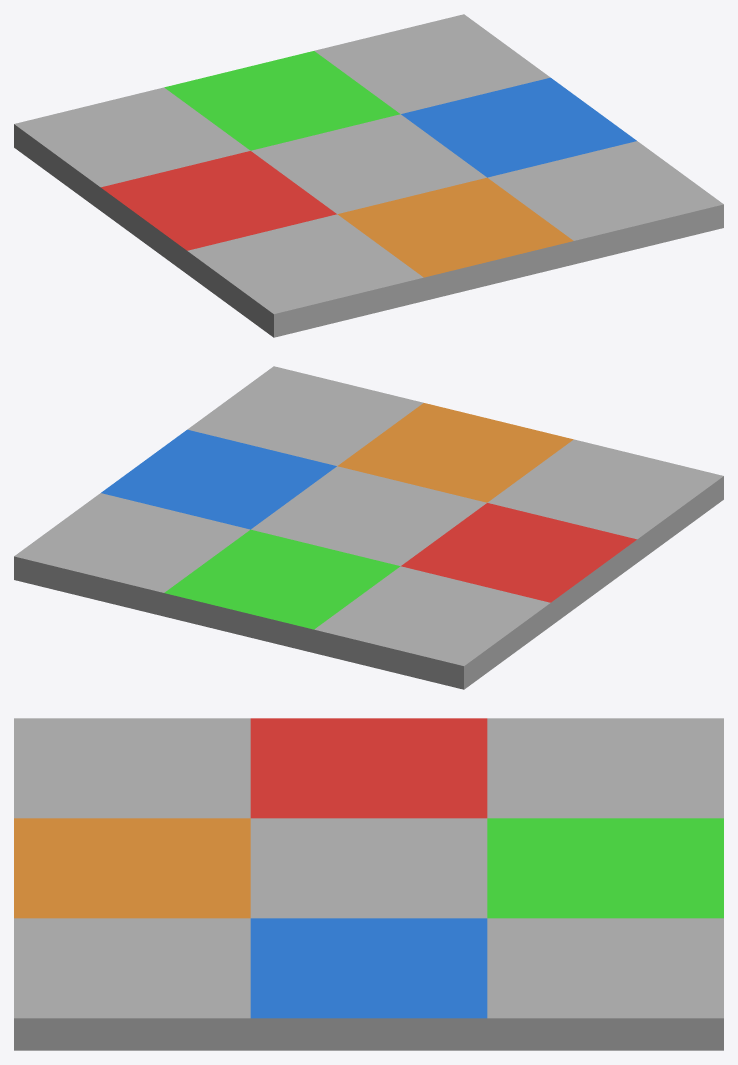
Rendered from platform.fbx.
3 renders of one model, top to bottom at view 1: azimuth 30°, elevation 25°; view 2: azimuth 150°, elevation 25°; view 3: azimuth 270°, elevation 25°, orthographic. The views are drawn at different scales.
Parts seen in each view (by area): view 1: Cube; view 2: Cube; view 3: Cube.
Part boxes in pixels (left/top/right/bottom): Cube: left=14, top=14, right=723, bottom=337; Cube: left=14, top=366, right=723, bottom=689; Cube: left=14, top=718, right=723, bottom=1050.
Bounding box in the file's own units: 180 × 9 × 180.
